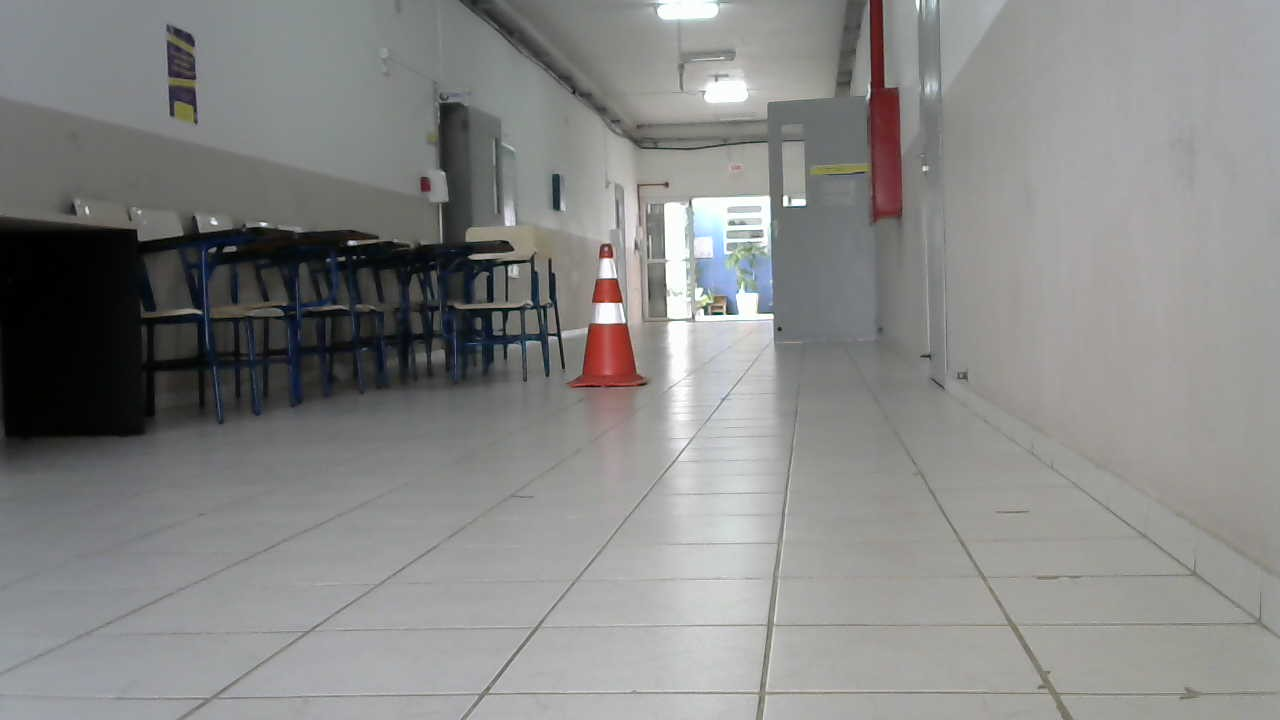cone: (571, 242, 649, 389)
